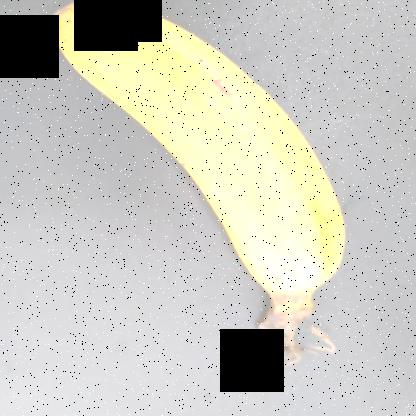freshripe: (25, 1, 339, 301)
